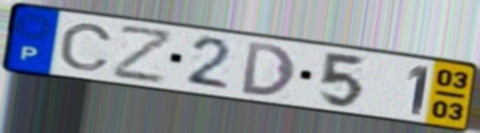1: (406, 64, 430, 117)
2: (181, 34, 238, 95)
5: (314, 50, 370, 110)
C: (57, 21, 116, 72)
D: (240, 40, 298, 99)
Z: (111, 25, 177, 85)
